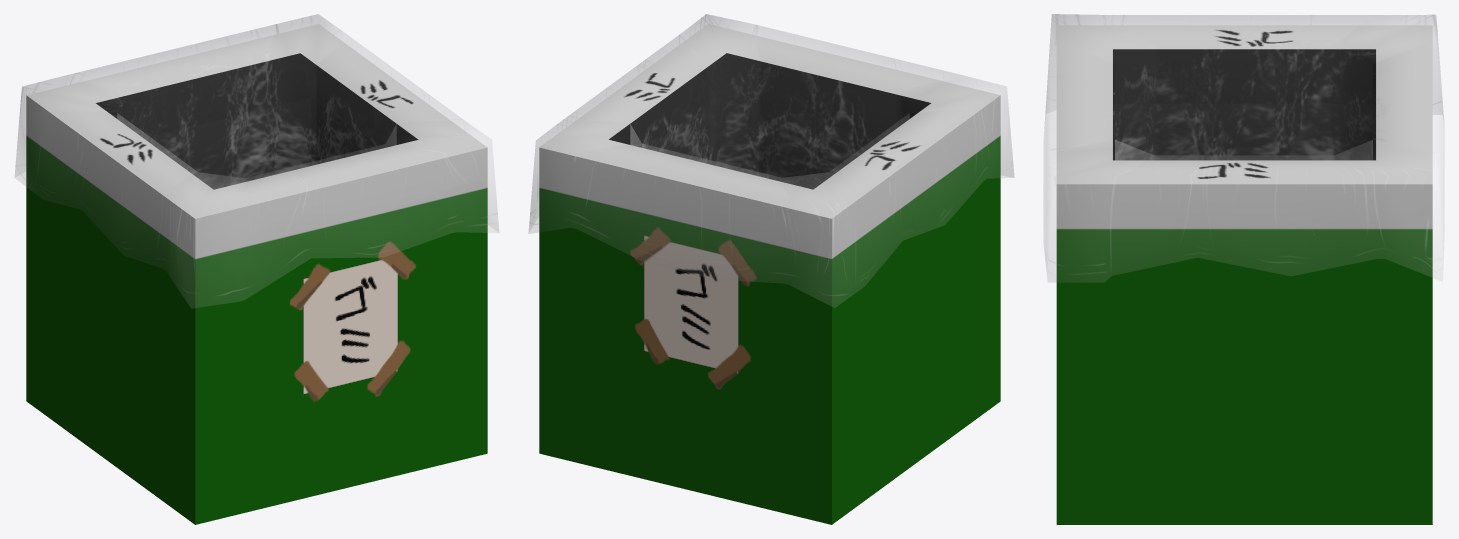
The model's file is garbage_can.glb.
The picture shows the model from 3 angles, left to right: view 1: azimuth 30°, elevation 25°; view 2: azimuth 150°, elevation 25°; view 3: azimuth 270°, elevation 25°; orthographic projection. The views are drawn at different scales.
Parts seen in each view (by area): view 1: version2, trashbag; view 2: version2, trashbag; view 3: version2, trashbag.
Boxes of the visible parts, box(x1,y1,x2,y2) form: version2: box(26, 24, 487, 524); trashbag: box(14, 14, 498, 307); version2: box(539, 24, 1000, 524); trashbag: box(528, 14, 1014, 307); version2: box(1056, 25, 1432, 524); trashbag: box(1043, 14, 1444, 281).
Size of the model in its own units: 1.06 by 1.03 by 1.07.
2 materials, 2 textured.
